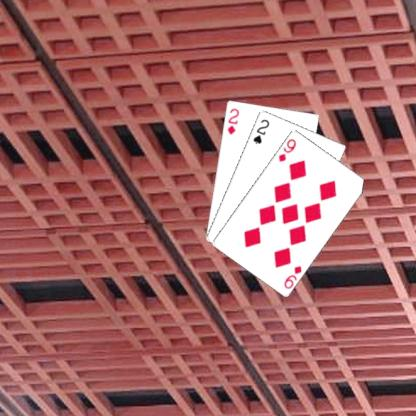2D: (224, 106, 240, 136)
2S: (250, 116, 270, 145)
9D: (281, 262, 303, 290), (276, 136, 297, 162)
